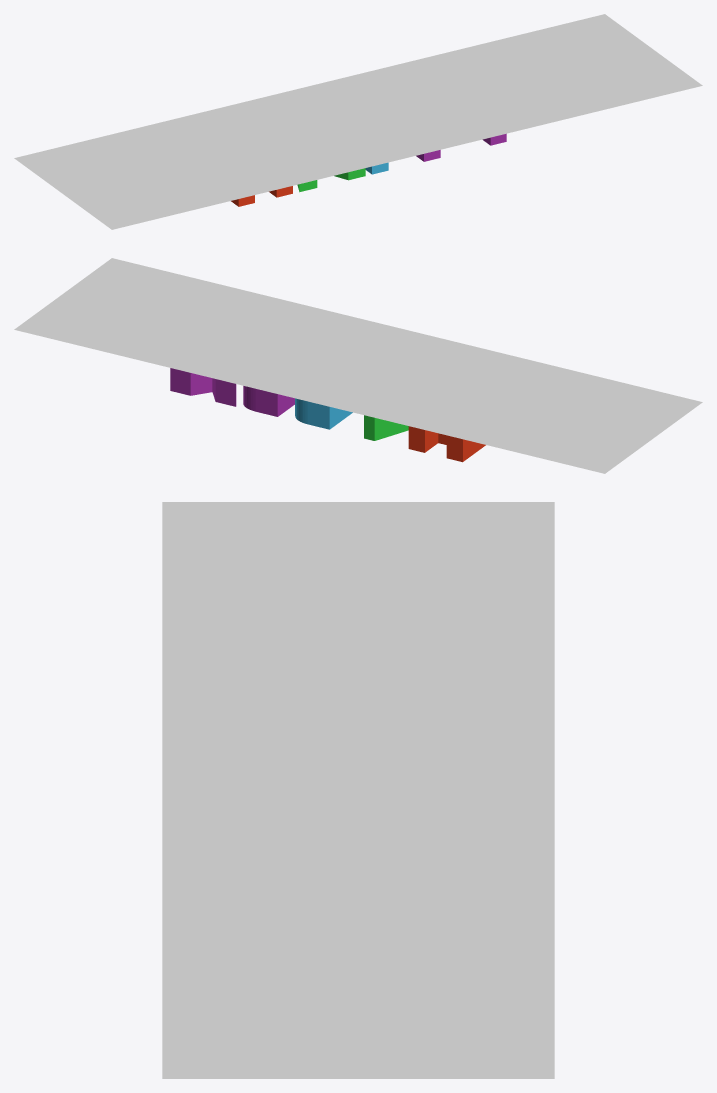
The model's file is Text-practice.glb.
3 renders of one model, top to bottom at view 1: azimuth 30°, elevation 25°; view 2: azimuth 150°, elevation 25°; view 3: azimuth 270°, elevation 25°, orthographic. The views are drawn at different scales.
Parts seen in each view (by area): view 1: 平面.005, 平面.004, 平面; view 2: 平面.005, 平面.001, 平面, 平面.002, 平面.003, 平面.004; view 3: 平面.005.
Boxes of the visible parts, left/top/right/bottom form: 平面.005: left=14, top=14, right=702, bottom=229; 平面.004: left=297, top=168, right=365, bottom=192; 平面: left=231, top=186, right=292, bottom=206; 平面.005: left=14, top=258, right=702, bottom=473; 平面.001: left=170, top=368, right=236, bottom=406; 平面: left=408, top=426, right=485, bottom=462; 平面.002: left=295, top=398, right=352, bottom=429; 平面.003: left=243, top=386, right=294, bottom=416; 平面.004: left=364, top=415, right=408, bottom=440; 平面.005: left=162, top=502, right=554, bottom=1078.
Size of the model in its own units: 9.54 by 0.7056 by 2.74.
